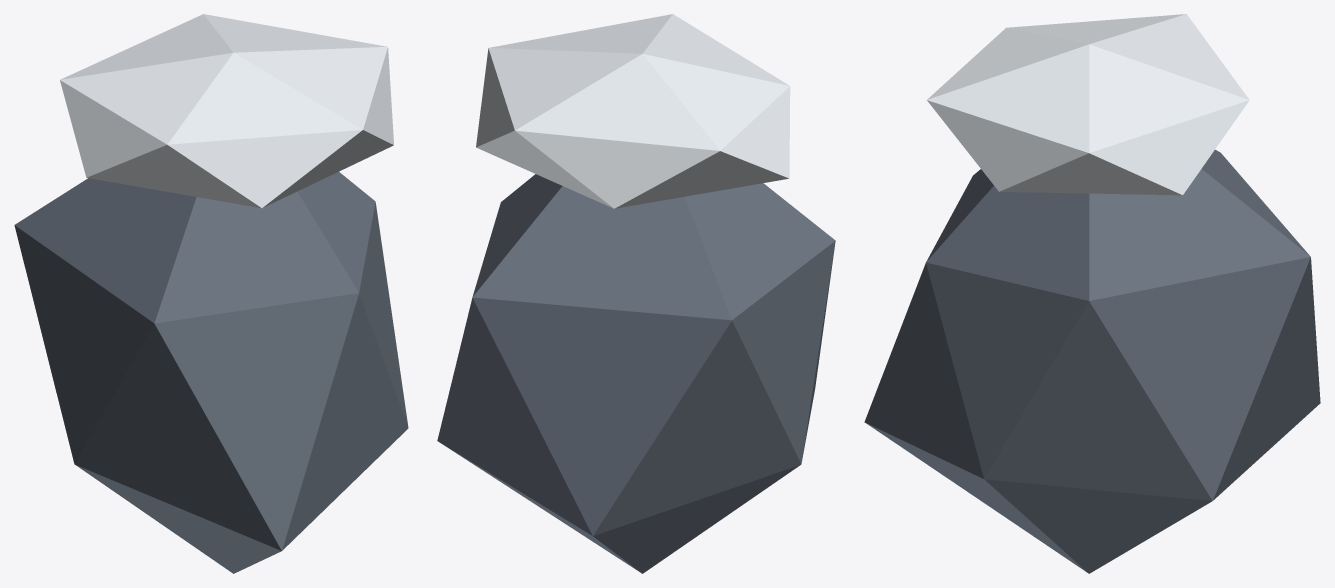
File: snowy_rock.glb
The picture shows the model from 3 angles, left to right: view 1: azimuth 30°, elevation 25°; view 2: azimuth 150°, elevation 25°; view 3: azimuth 270°, elevation 25°; orthographic projection.
Visible parts, largest first — view 1: snowy_rock; view 2: snowy_rock; view 3: snowy_rock.
Part boxes in pixels (bbox=[...]): snowy_rock: bbox=[14, 14, 408, 573]; snowy_rock: bbox=[437, 14, 835, 573]; snowy_rock: bbox=[864, 14, 1320, 573].
Size of the model in its own units: 2.1 by 3.33 by 2.6.
